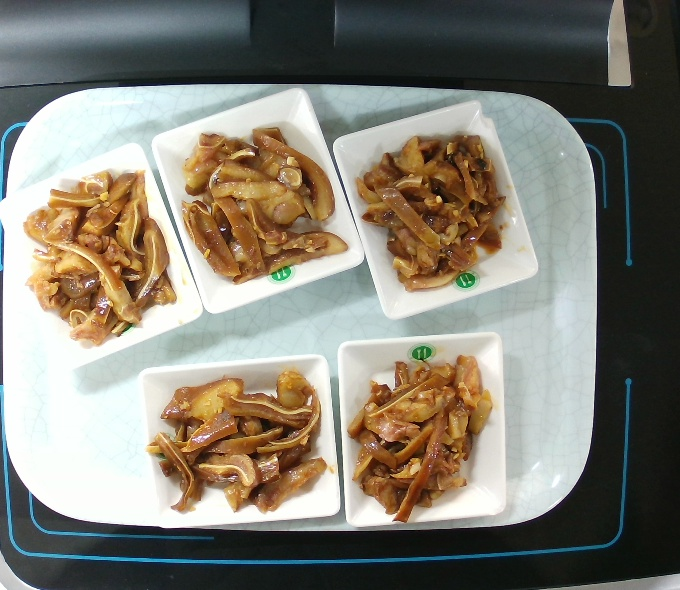wcq-ZhuErDuo: (171, 114, 351, 291), (19, 159, 182, 352), (140, 356, 330, 521), (348, 343, 505, 533), (354, 121, 510, 301)
